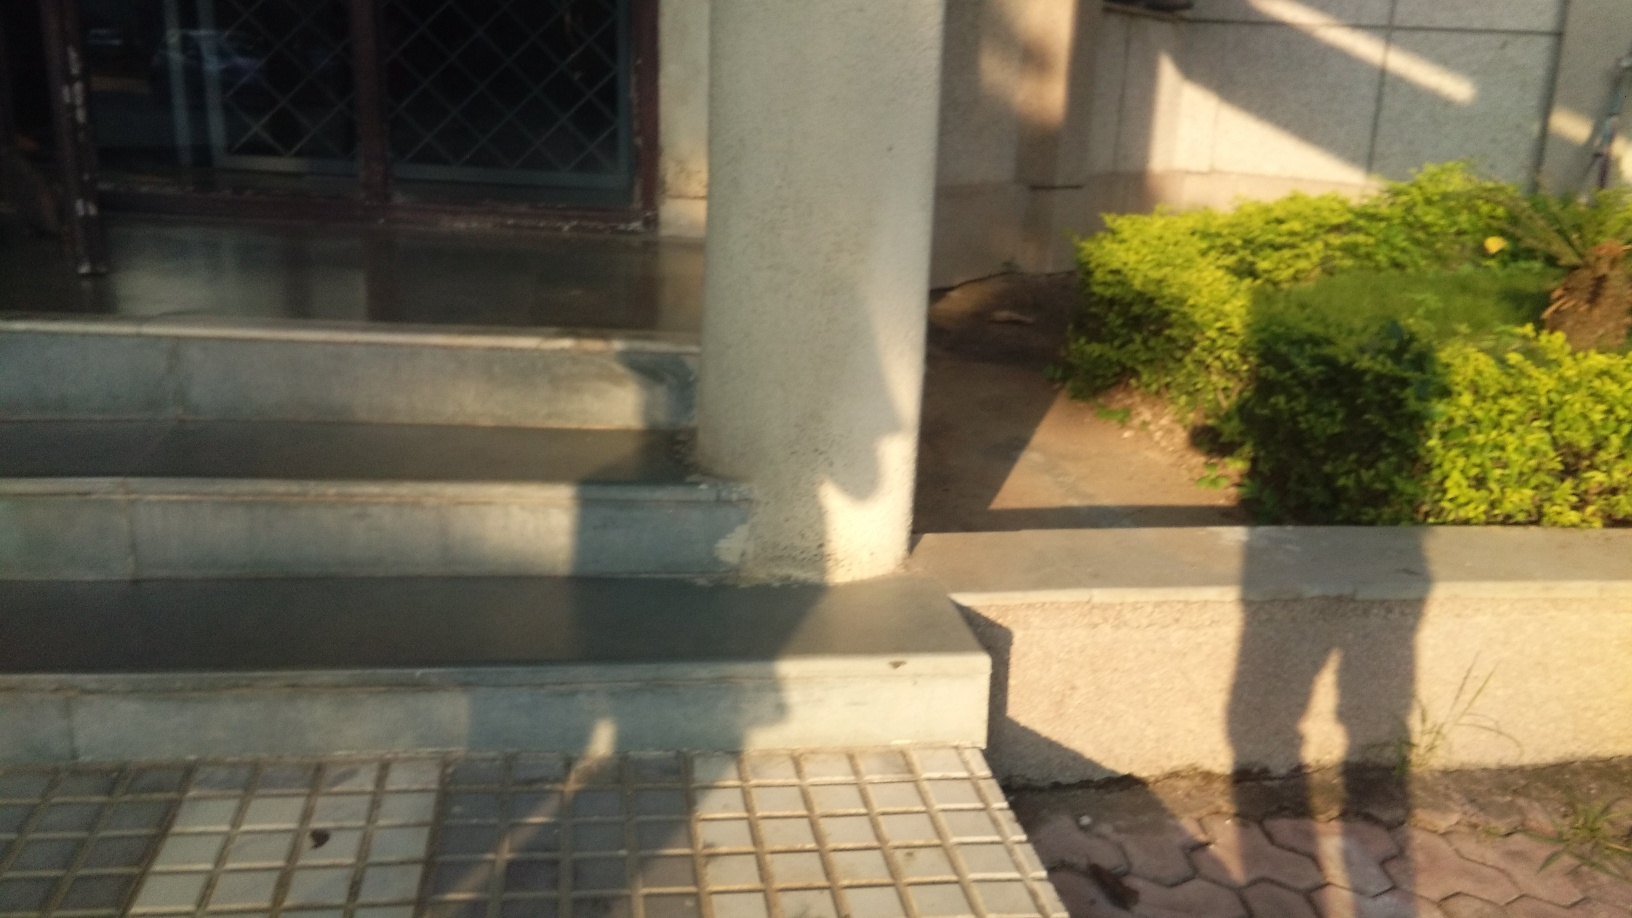stairs_up: (1, 322, 871, 759)
